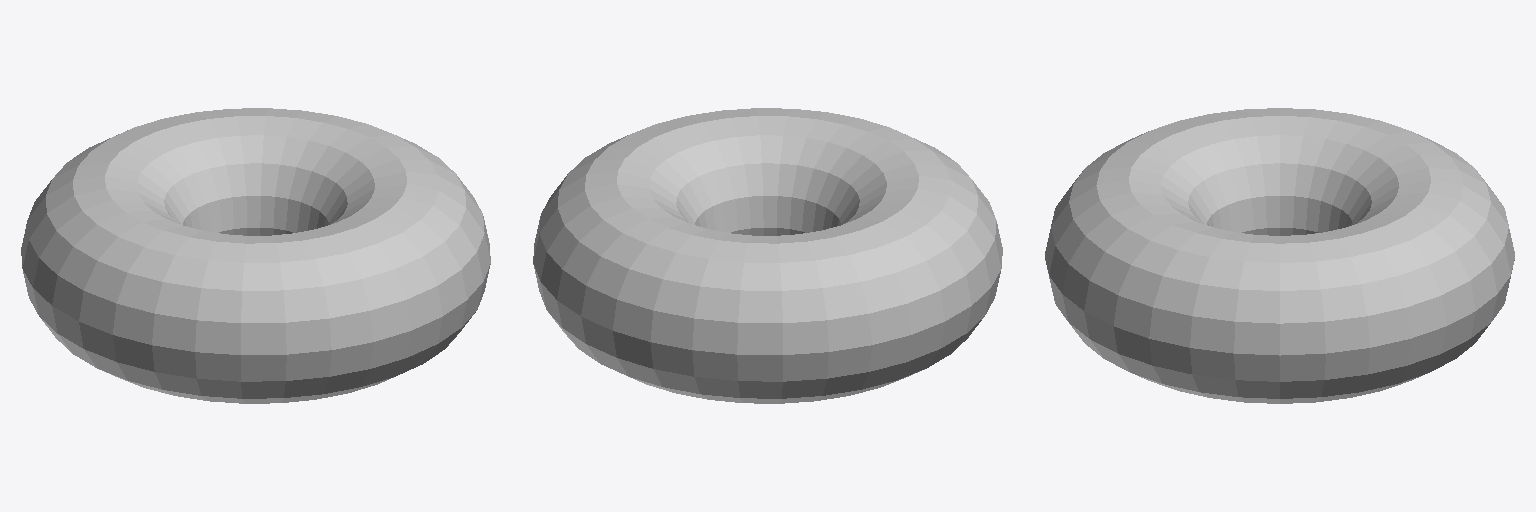
The model's file is donut.obj.
3 views of the same model, side by side, from view 1: azimuth 30°, elevation 25°; view 2: azimuth 150°, elevation 25°; view 3: azimuth 270°, elevation 25° (orthographic).
Bounding box in the file's own units: 1.4 × 0.5 × 1.4.